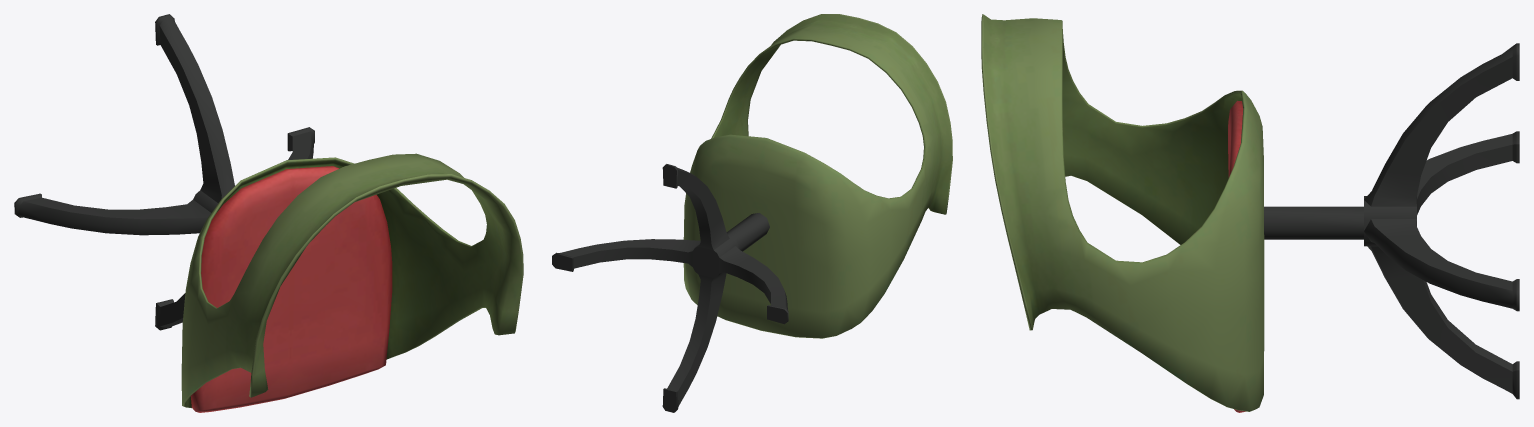
File: nt_2020_green_chair_LOD0.obj
3 views of the same model, side by side, from view 1: azimuth 30°, elevation 25°; view 2: azimuth 150°, elevation 25°; view 3: azimuth 270°, elevation 25° (orthographic). The views are drawn at different scales.
Visible parts, largest first — view 1: mtl_nt_2020_green_chair, mtl_nt_2020_green_chair_cushion, nt_2020_metal_stainless; view 2: mtl_nt_2020_green_chair, nt_2020_metal_stainless; view 3: mtl_nt_2020_green_chair, nt_2020_metal_stainless, mtl_nt_2020_green_chair_cushion.
Boxes of the visible parts, <box> form: mtl_nt_2020_green_chair: <box>181,153,523,408</box>; mtl_nt_2020_green_chair_cushion: <box>190,166,392,412</box>; nt_2020_metal_stainless: <box>14,14,314,330</box>; mtl_nt_2020_green_chair: <box>683,14,952,338</box>; nt_2020_metal_stainless: <box>552,164,788,412</box>; mtl_nt_2020_green_chair: <box>981,14,1264,411</box>; nt_2020_metal_stainless: <box>1264,43,1519,399</box>; mtl_nt_2020_green_chair_cushion: <box>1228,100,1245,412</box>.
Bounding box in the file's own units: 62.26 × 64.55 × 86.66.
